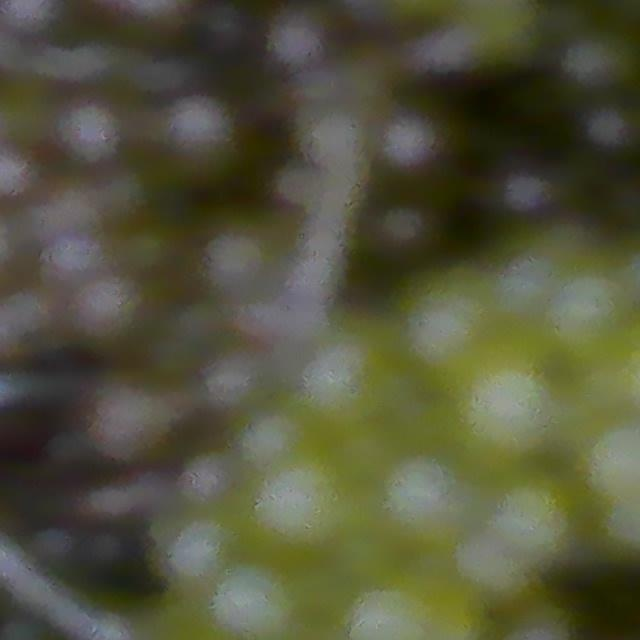SeaGrape: (440, 328, 563, 464), (245, 448, 358, 557), (400, 265, 497, 366), (45, 99, 144, 189), (488, 472, 580, 567), (368, 106, 460, 193), (165, 104, 252, 193), (377, 454, 462, 544), (210, 559, 304, 640), (546, 267, 630, 352), (266, 17, 342, 96), (69, 267, 138, 346), (163, 510, 232, 584), (371, 205, 453, 264)
